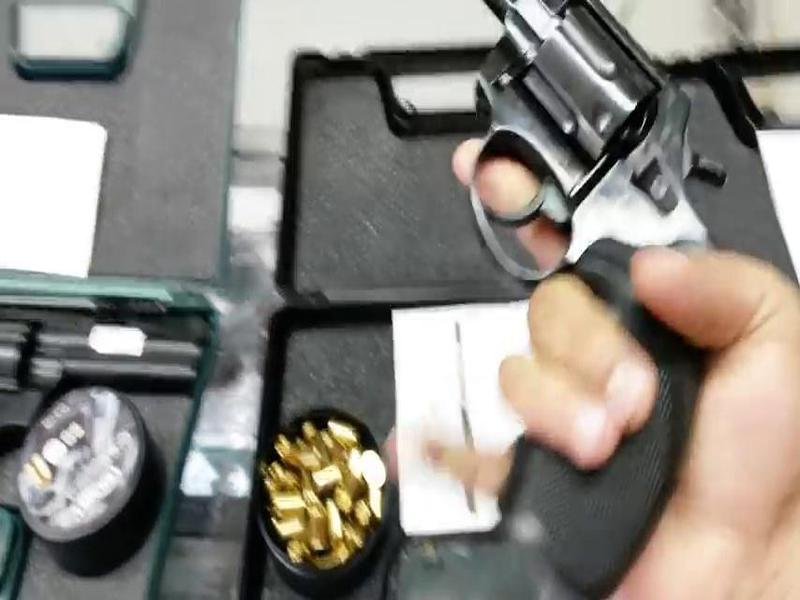Revolver: (430, 4, 725, 586)
